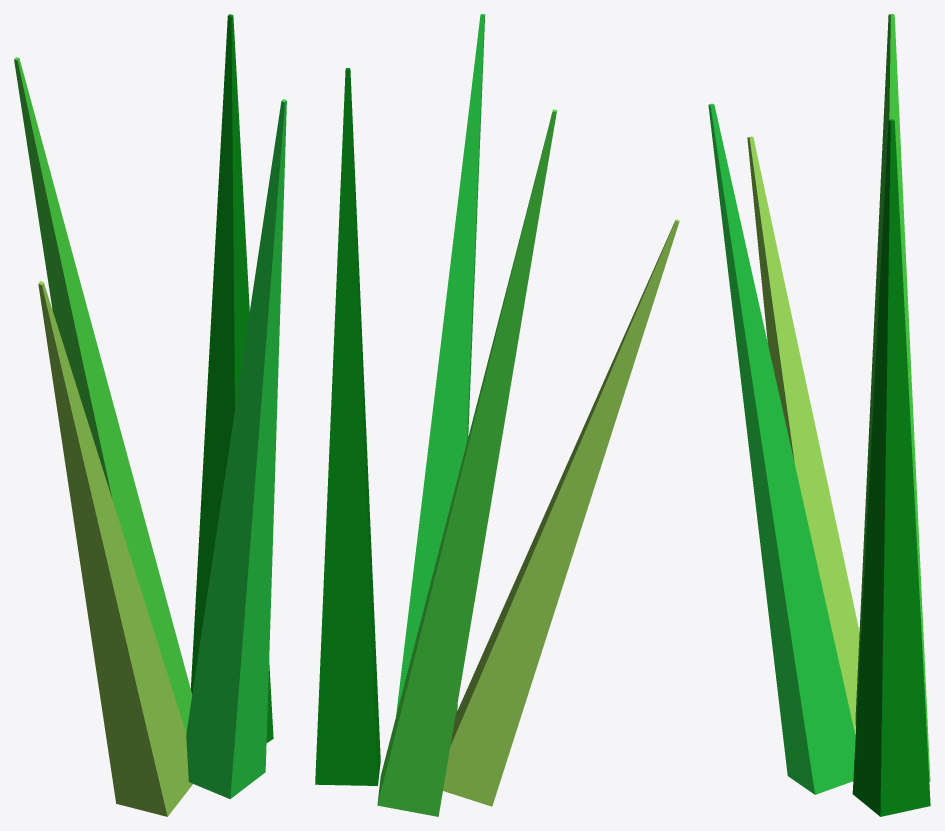
File: Grass 1.fbx
3 renders of one model, left to right at view 1: azimuth 30°, elevation 25°; view 2: azimuth 150°, elevation 25°; view 3: azimuth 270°, elevation 25°, orthographic. The views are drawn at different scales.
Parts seen in each view (by area): view 1: Cube.000, Cube.003, Cube.001, Cube.002; view 2: Cube.002, Cube.001, Cube.003, Cube.000; view 3: Cube.002, Cube.000, Cube.003, Cube.001.
Part boxes in pixels (box(x1,y1,x2,y2)): Cube.000: box(186, 99, 286, 799); Cube.003: box(38, 281, 192, 816); Cube.001: box(14, 57, 192, 732); Cube.002: box(191, 14, 273, 742); Cube.002: box(315, 68, 380, 785); Cube.001: box(377, 109, 556, 816); Cube.003: box(443, 219, 679, 806); Cube.000: box(396, 14, 485, 715); Cube.002: box(852, 119, 930, 816); Cube.000: box(708, 103, 855, 794); Cube.003: box(747, 136, 859, 735); Cube.001: box(855, 14, 930, 782).
Bounding box in the file's own units: 68.23 × 161 × 46.19.
